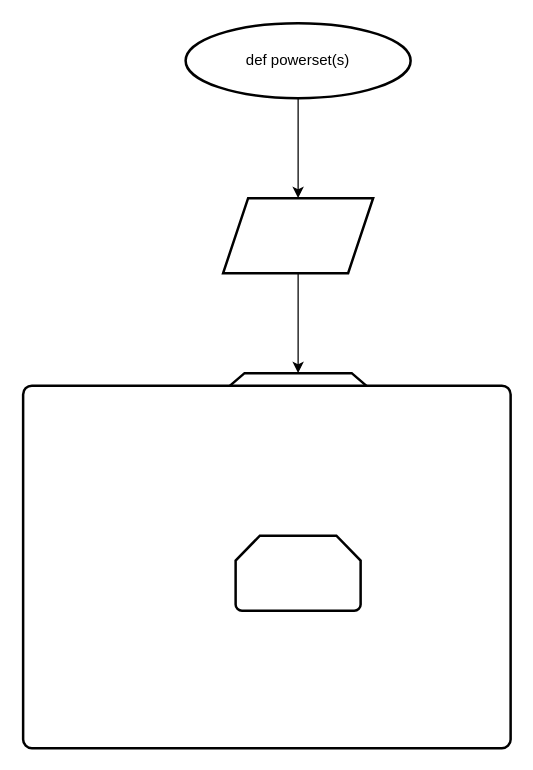
This 533x770 diagram has some shape labels left out. Each missing label, with the centre of its shape:
"count = 0 pows = [] temp = []" belongs at point 297,235.
"for i in range(" belongs at point 297,572.
